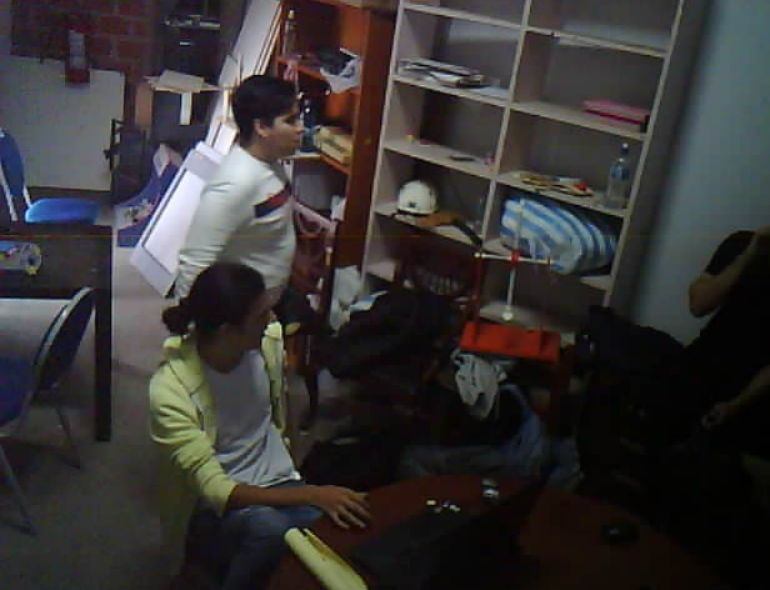person: (116, 249, 382, 590), (183, 46, 316, 318), (687, 176, 770, 528)
